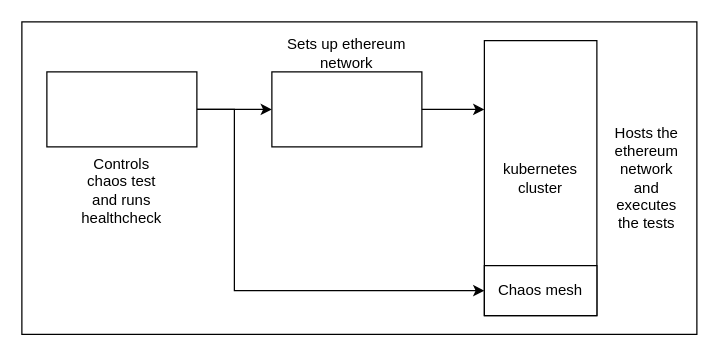
Image size: 719x356. Some labels were removed from this diagram. The shapes that lost their labels are listed below. From the top down, each one's centre as x and y in pixels, then its label:
point 121,109: attacknet controller
point 346,109: kurtosis
